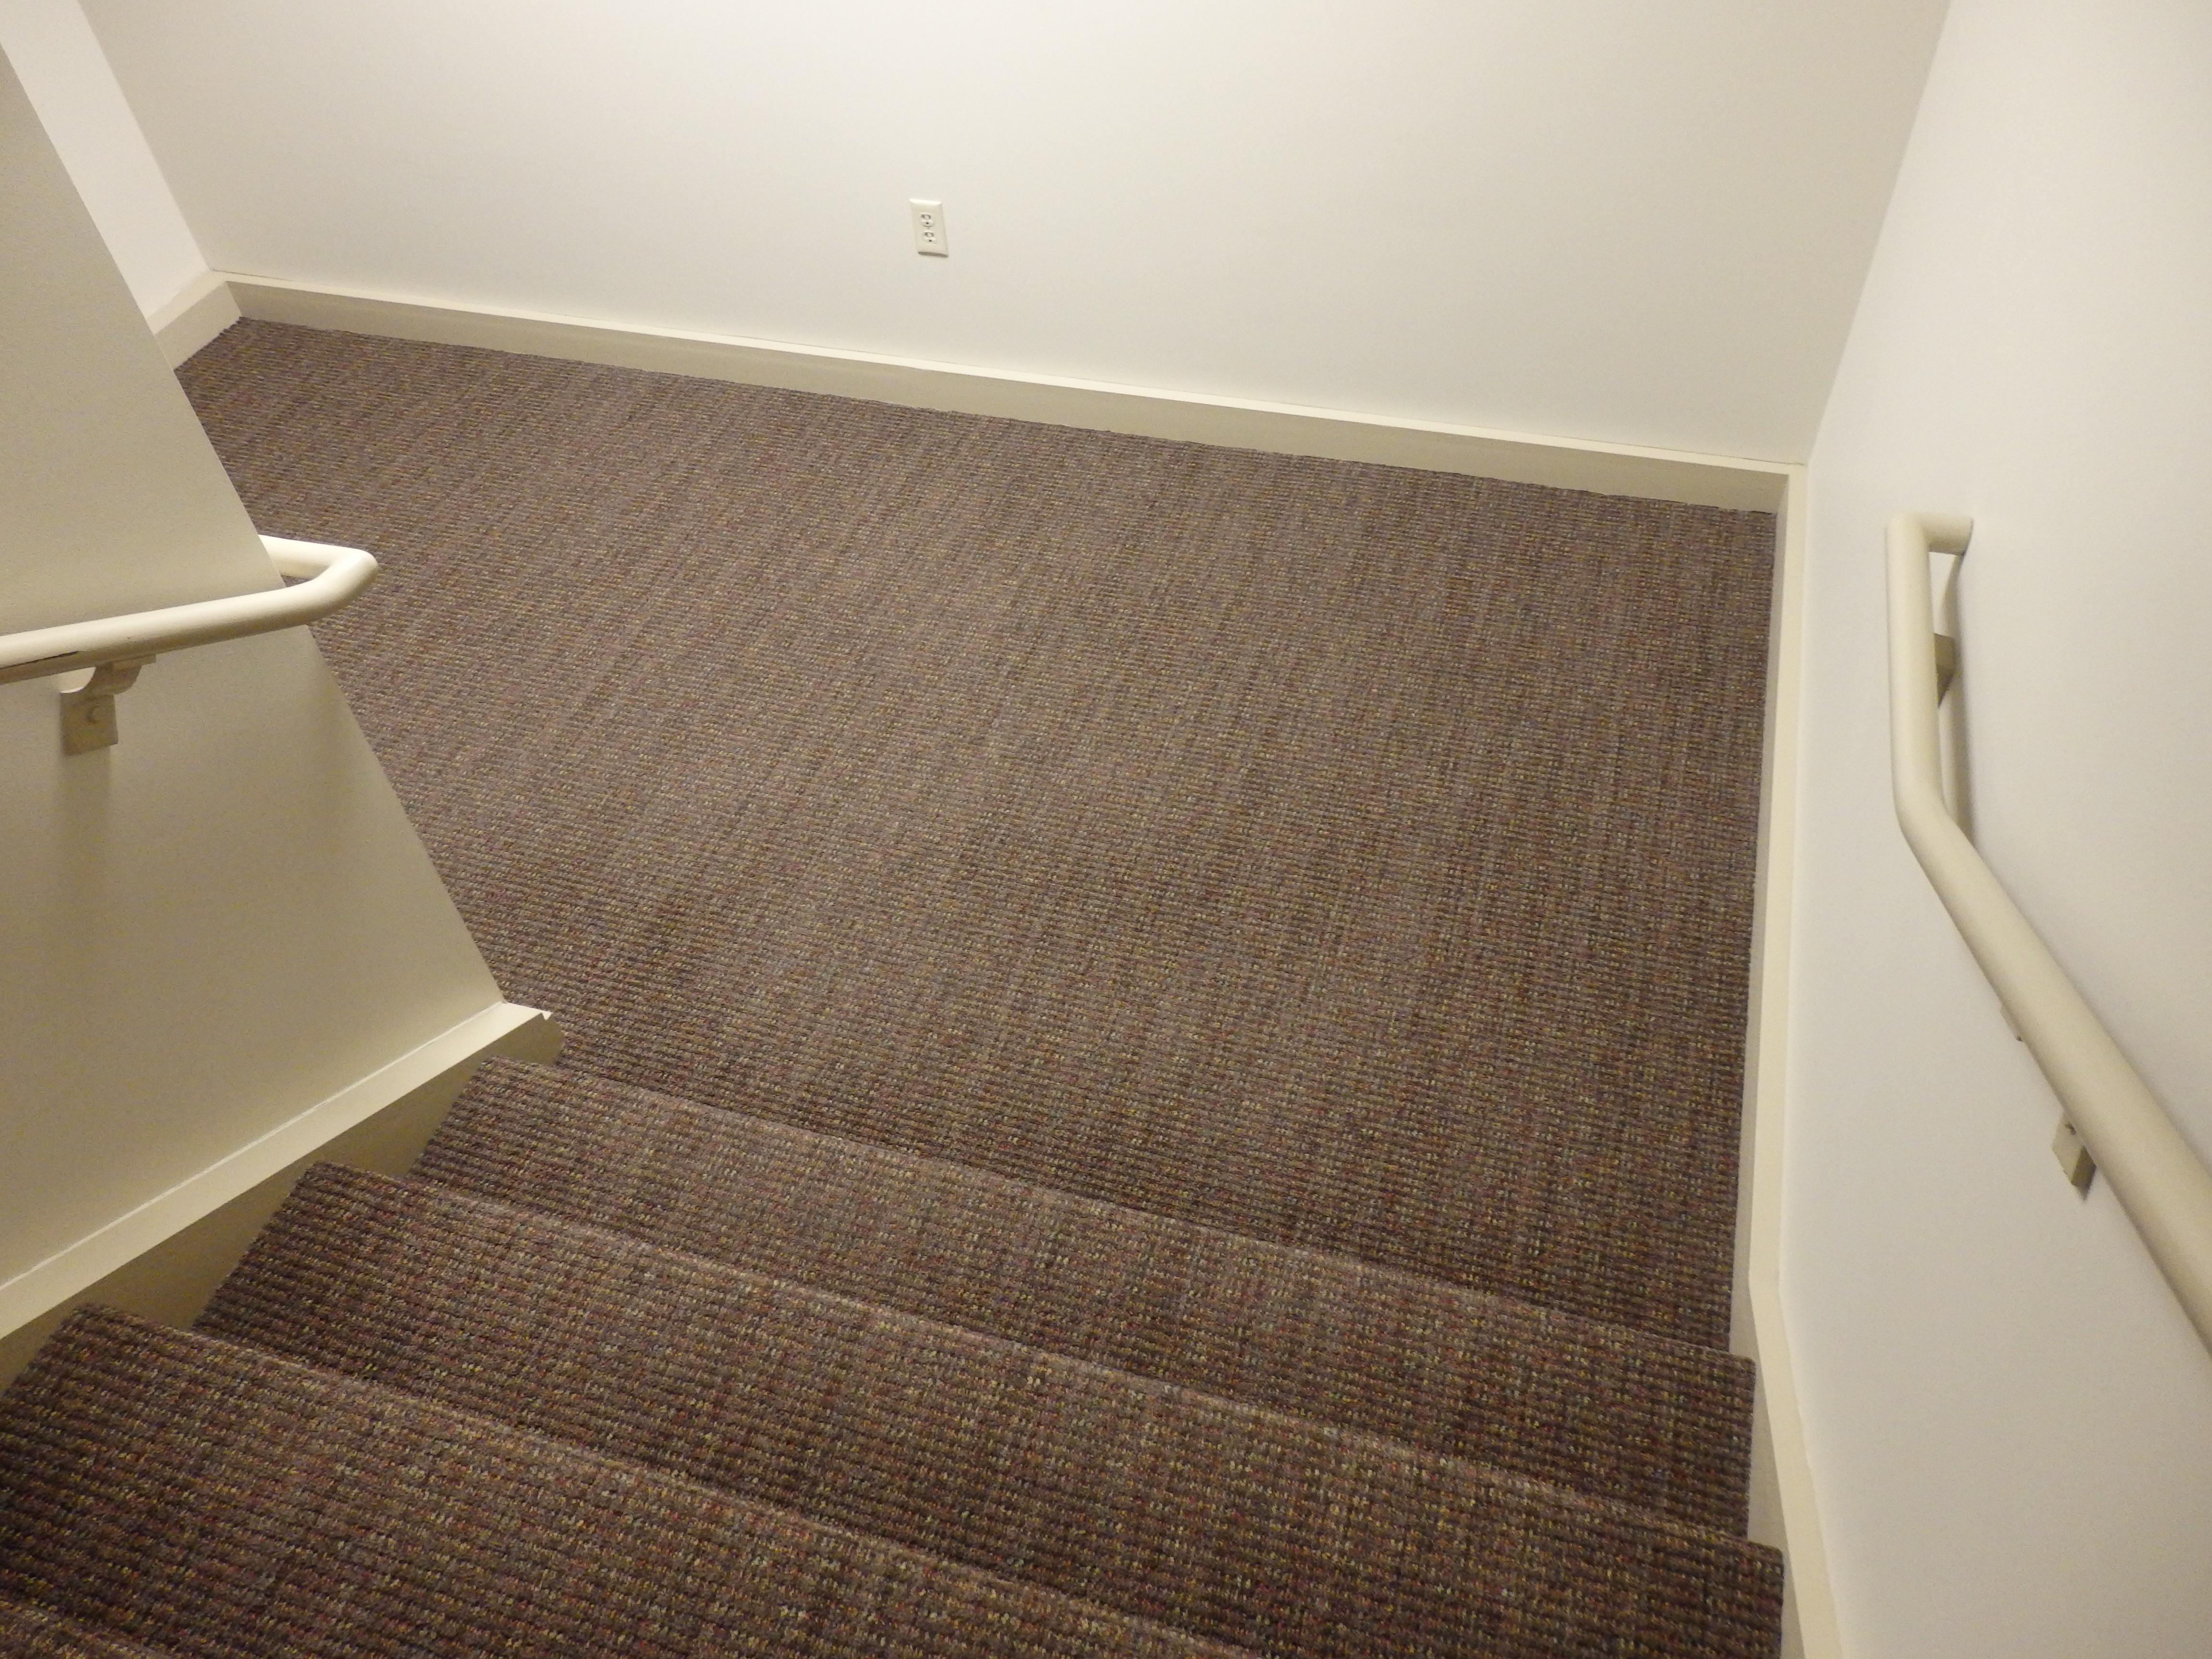stairs_down: (16, 1063, 1792, 1659)
